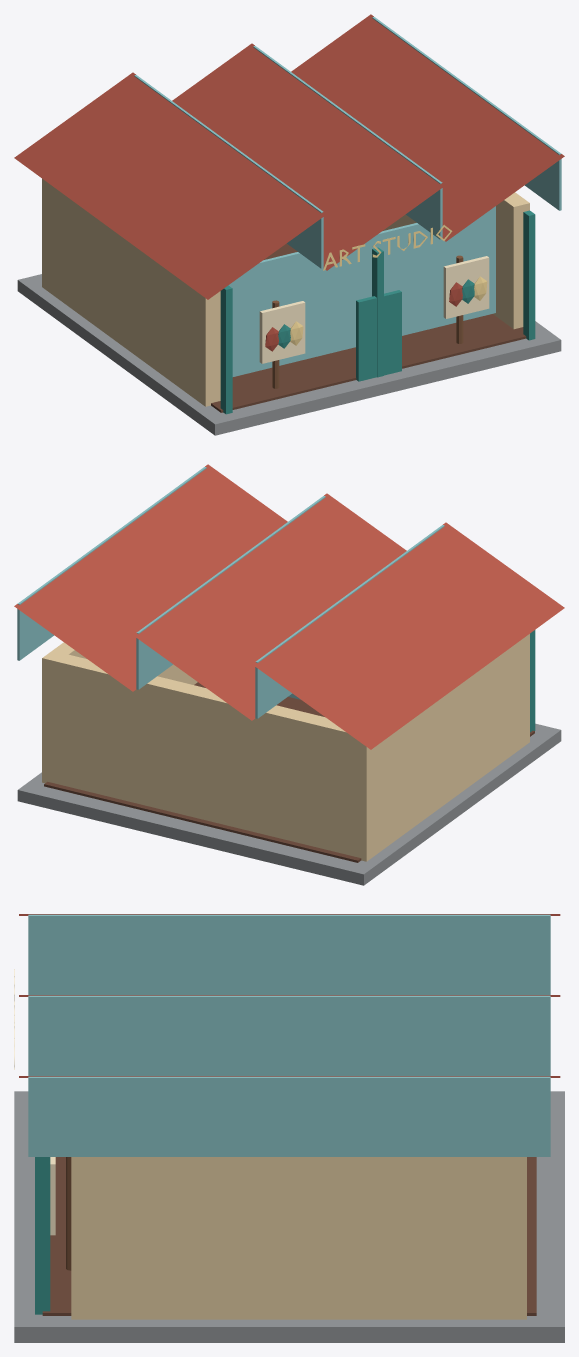
Rendered from studio_art.glb.
The picture shows the model from 3 angles, top to bottom: view 1: azimuth 30°, elevation 25°; view 2: azimuth 150°, elevation 25°; view 3: azimuth 270°, elevation 25°; orthographic projection. The views are drawn at different scales.
Visible parts, largest first — view 1: sawtooth_roof, sawtooth_roof.002, sawtooth_roof.001, window_back, side_wall, foundation, floor, side_wall.001, door, canvas, canvas.001, clerestory.002 (+7 smaller); view 2: rear_wall, sawtooth_roof, sawtooth_roof.001, sawtooth_roof.002, side_wall, foundation, floor, clerestory.002, clerestory.001, clerestory, side_wall.001, front_post; view 3: side_wall.001, clerestory, clerestory.001, clerestory.002, foundation, rear_wall, floor, front_post.002, easel.001, sawtooth_roof, sawtooth_roof.001, sawtooth_roof.002.
Boxes of the visible parts, bbox=[...] form: sawtooth_roof: bbox=[14, 72, 326, 299]; sawtooth_roof.002: bbox=[291, 14, 564, 241]; sawtooth_roof.001: bbox=[172, 43, 445, 270]; window_back: bbox=[228, 206, 495, 376]; side_wall: bbox=[52, 186, 220, 406]; foundation: bbox=[17, 274, 561, 435]; floor: bbox=[211, 243, 526, 412]; side_wall.001: bbox=[383, 192, 529, 329]; door: bbox=[356, 290, 401, 381]; canvas: bbox=[259, 301, 305, 363]; canvas.001: bbox=[443, 256, 489, 318]; clerestory.002: bbox=[372, 17, 561, 210]; rear_wall: bbox=[42, 650, 376, 861]; sawtooth_roof: bbox=[252, 522, 564, 749]; sawtooth_roof.001: bbox=[133, 493, 406, 720]; sawtooth_roof.002: bbox=[14, 464, 287, 691]; side_wall: bbox=[373, 634, 529, 856]; foundation: bbox=[17, 723, 561, 885]; floor: bbox=[44, 682, 534, 862]; clerestory.002: bbox=[17, 467, 206, 660]; clerestory.001: bbox=[136, 496, 325, 689]; clerestory: bbox=[255, 525, 444, 718]; side_wall.001: bbox=[53, 642, 197, 684]; front_post: bbox=[530, 630, 535, 732]; side_wall.001: bbox=[71, 1157, 507, 1319]; clerestory: bbox=[28, 914, 550, 994]; clerestory.001: bbox=[28, 995, 550, 1075]; clerestory.002: bbox=[28, 1076, 550, 1156]; foundation: bbox=[14, 1091, 564, 1342]; rear_wall: bbox=[498, 1157, 526, 1319]; floor: bbox=[42, 1157, 536, 1315]; front_post.002: bbox=[35, 1157, 50, 1314]; easel.001: bbox=[66, 1157, 71, 1270]; sawtooth_roof: bbox=[19, 914, 560, 915]; sawtooth_roof.001: bbox=[19, 995, 560, 996]; sawtooth_roof.002: bbox=[19, 1076, 560, 1077].
Size of the model in its own units: 6.6 by 3.4 by 6.32.
